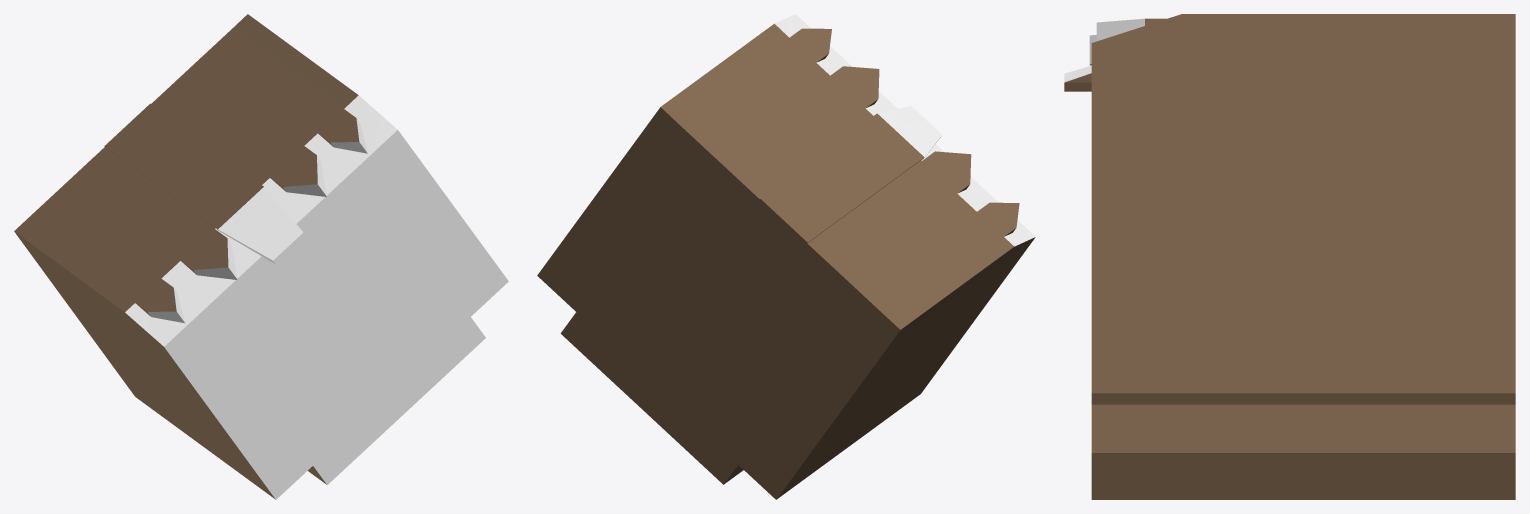
The picture shows the model from 3 angles, left to right: view 1: azimuth 30°, elevation 25°; view 2: azimuth 150°, elevation 25°; view 3: azimuth 270°, elevation 25°; orthographic projection. The views are drawn at different scales.
Parts seen in each view (by area): view 1: City_PC-08751; view 2: City_PC-08751; view 3: City_PC-08751.
Boxes of the visible parts, <box> form: City_PC-08751: <box>14,14,508,499</box>; City_PC-08751: <box>537,14,1035,499</box>; City_PC-08751: <box>1064,14,1515,499</box>.
Bounding box in the file's own units: 1959 × 1879 × 1437.
